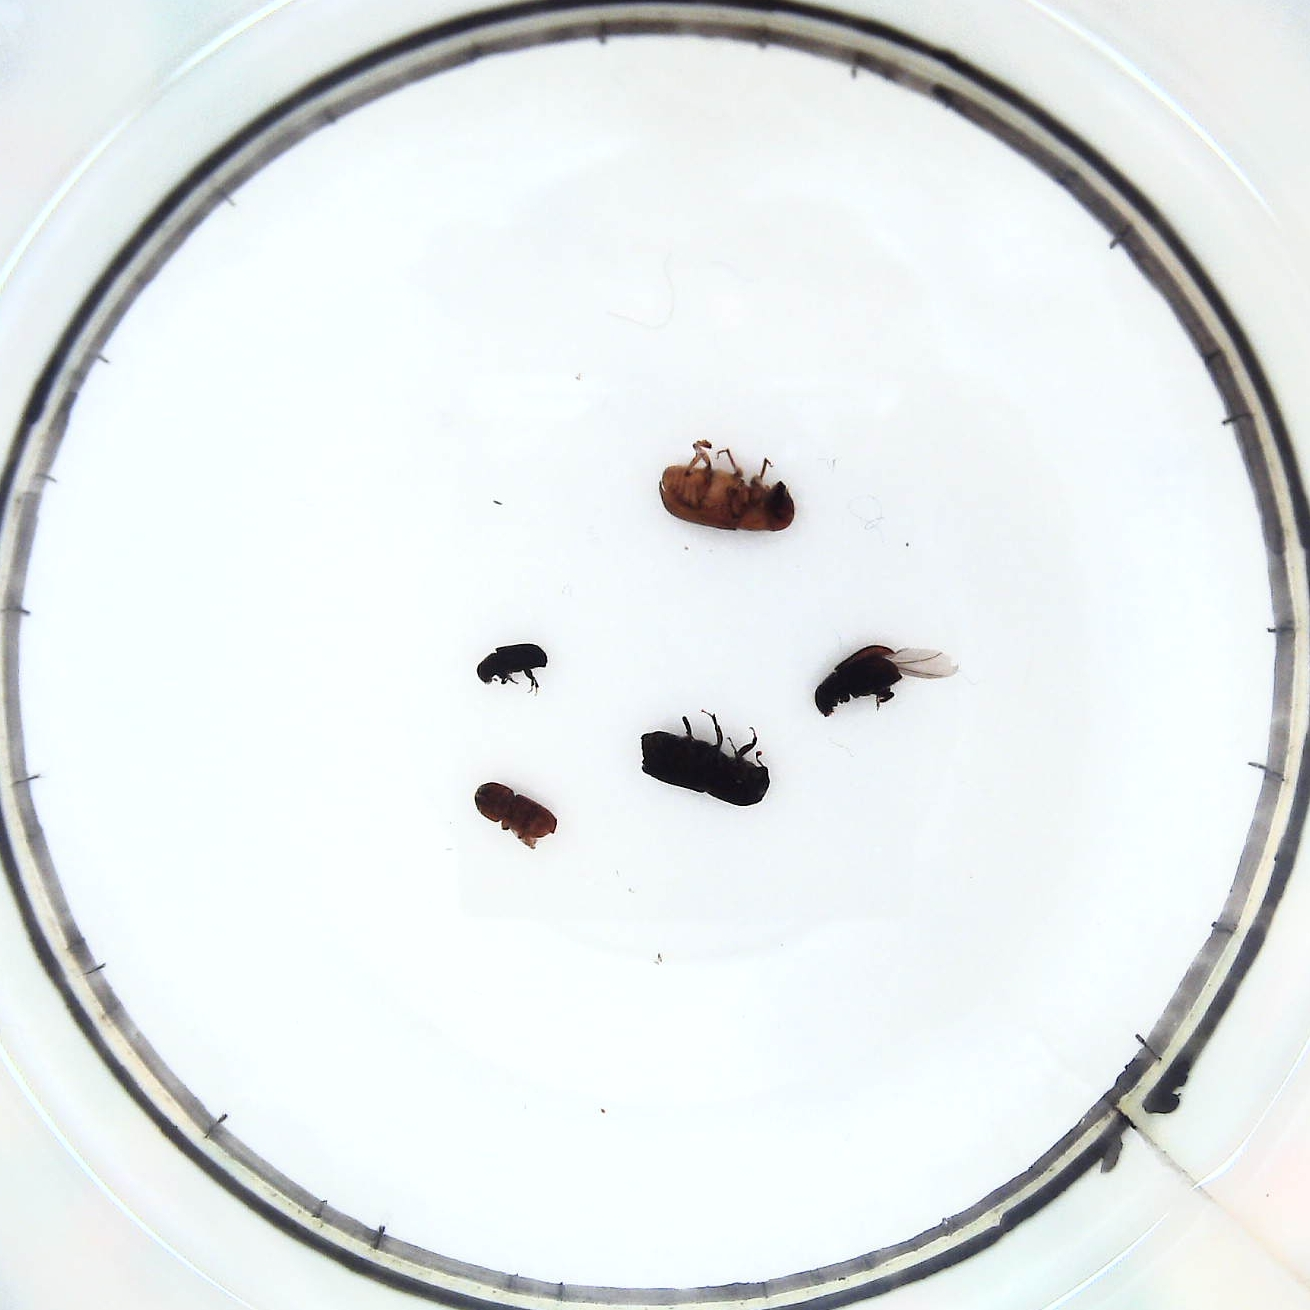Boerner: (638, 705, 775, 812)
Leconte: (659, 437, 803, 537)
armandi: (809, 642, 959, 717)
coleoptera: (474, 641, 549, 689)
linnaeus: (470, 776, 561, 849)
